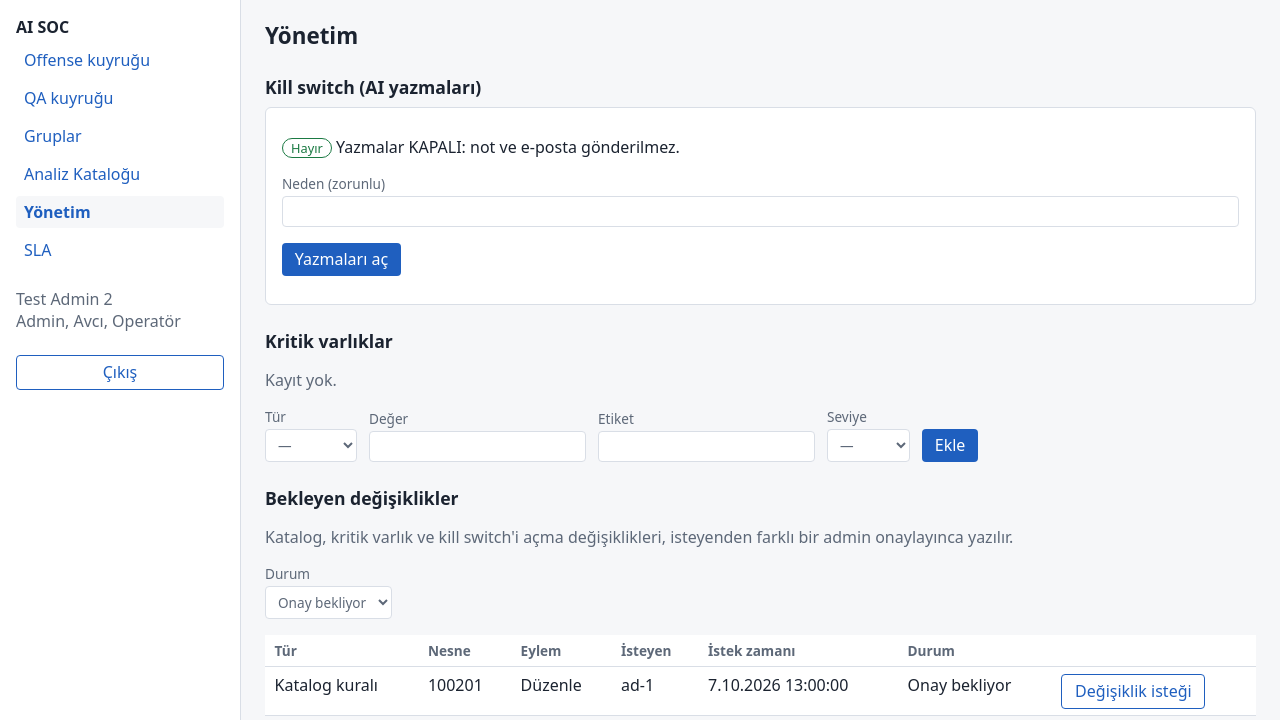
Test: pending changes (T-033 criterion 5) › rejects with a comment
Click the button "Değişiklik isteği". click: (1133, 691)
box: [1061,674,1205,709]
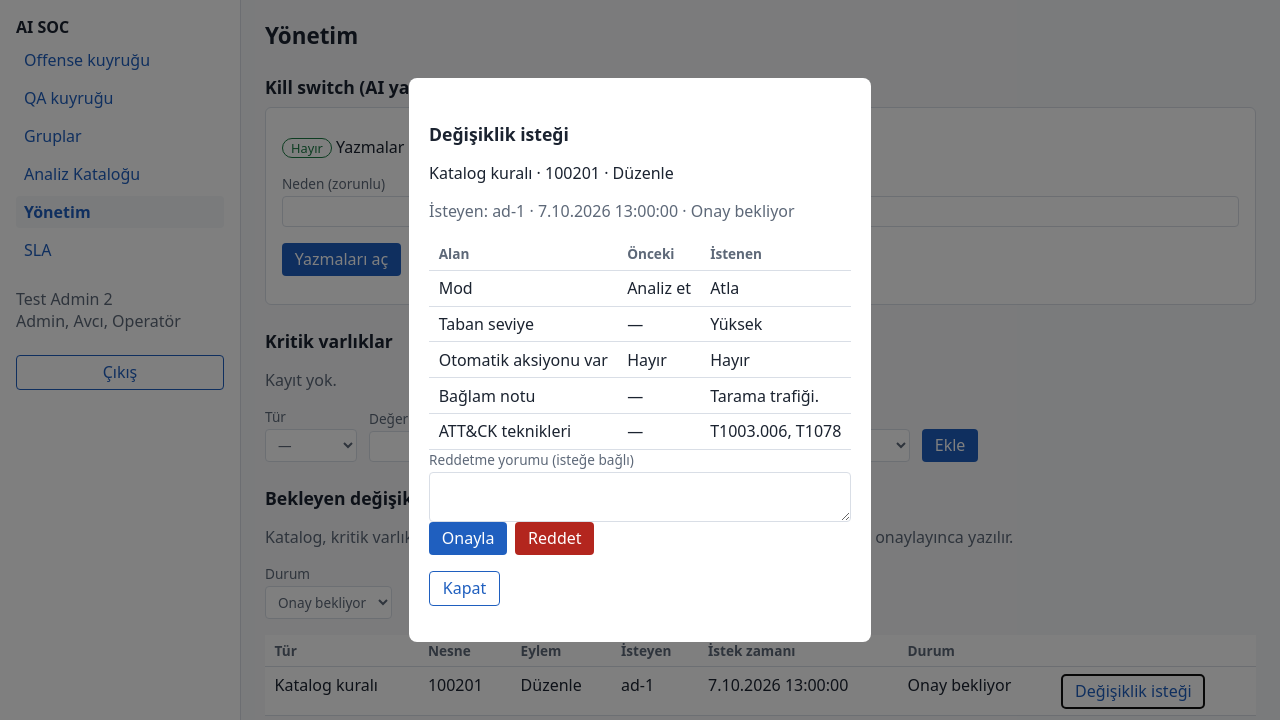
Type "Kural yanlış" into the text box labelled "Reddetme yorumu (isteğe bağlı)". click: (640, 497)
box: [429,472,851,522]
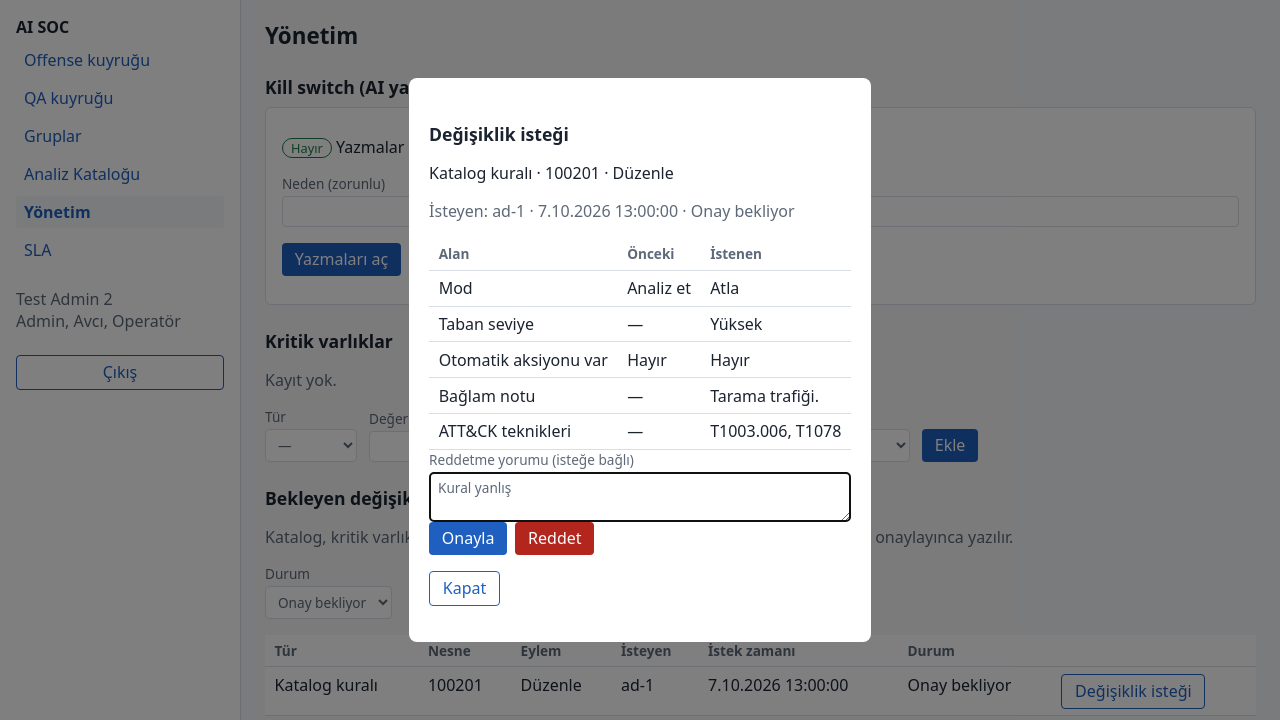
Click the button "Reddet". click: (555, 538)
box: [515,522,594,555]
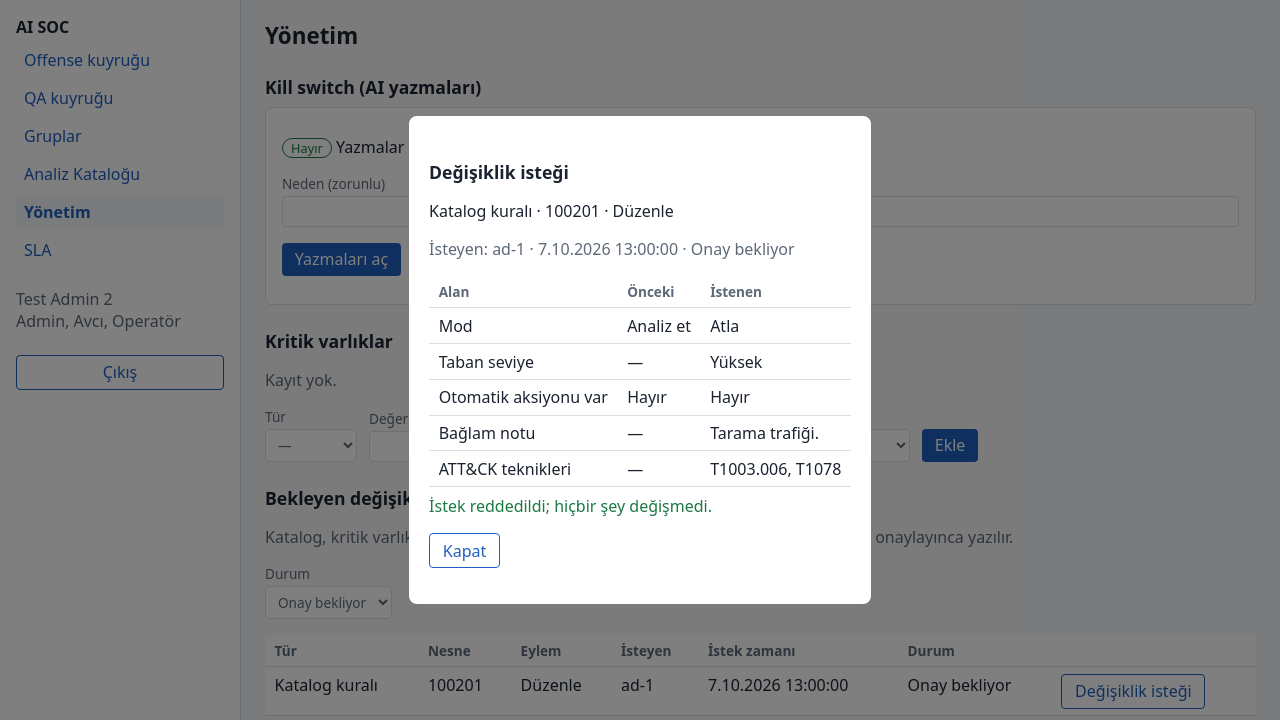
Now the text "İstek reddedildi; hiçbir şey değişmedi." is shown, box [429,495,712,517]
